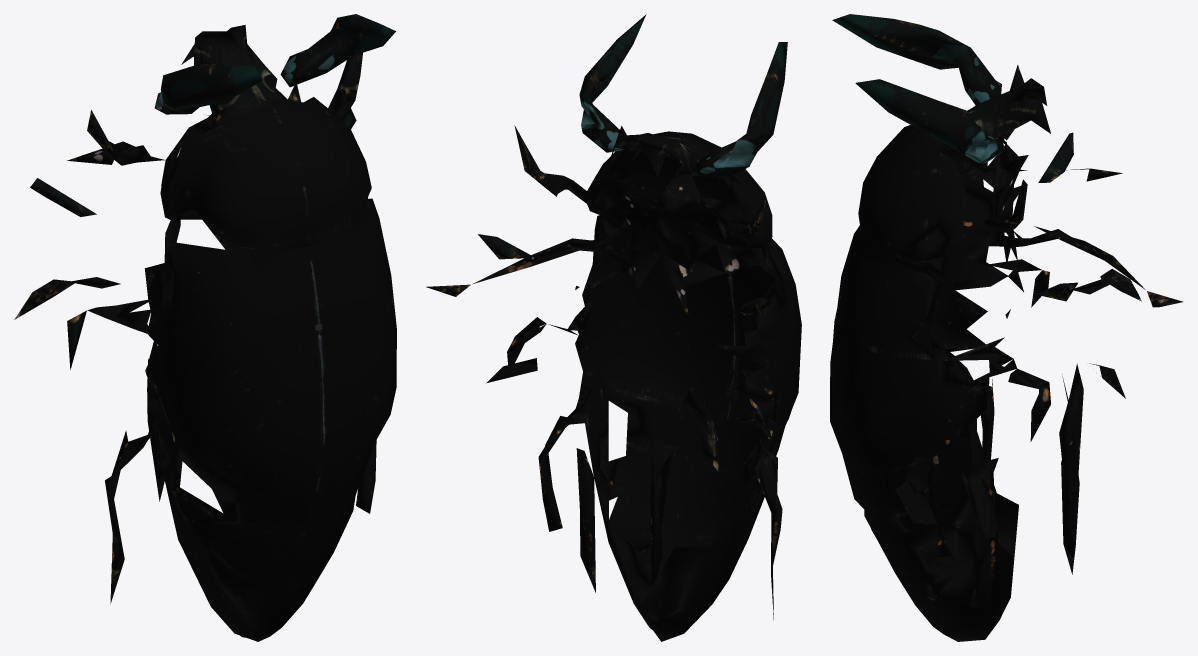
The model's file is dune-scarab.glb.
3 views of the same model, side by side, from view 1: azimuth 30°, elevation 25°; view 2: azimuth 150°, elevation 25°; view 3: azimuth 270°, elevation 25° (orthographic). The views are drawn at different scales.
Parts seen in each view (by area): view 1: geometry_0; view 2: geometry_0; view 3: geometry_0.
Part boxes in pixels (x1=…): geometry_0: x1=14, y1=14, x2=396, y2=641; geometry_0: x1=426, y1=14, x2=801, y2=641; geometry_0: x1=830, y1=14, x2=1183, y2=641.
Bounding box in the file's own units: 0.51 × 0.9425 × 0.504.
Materials: 1 (1 with a texture image).
